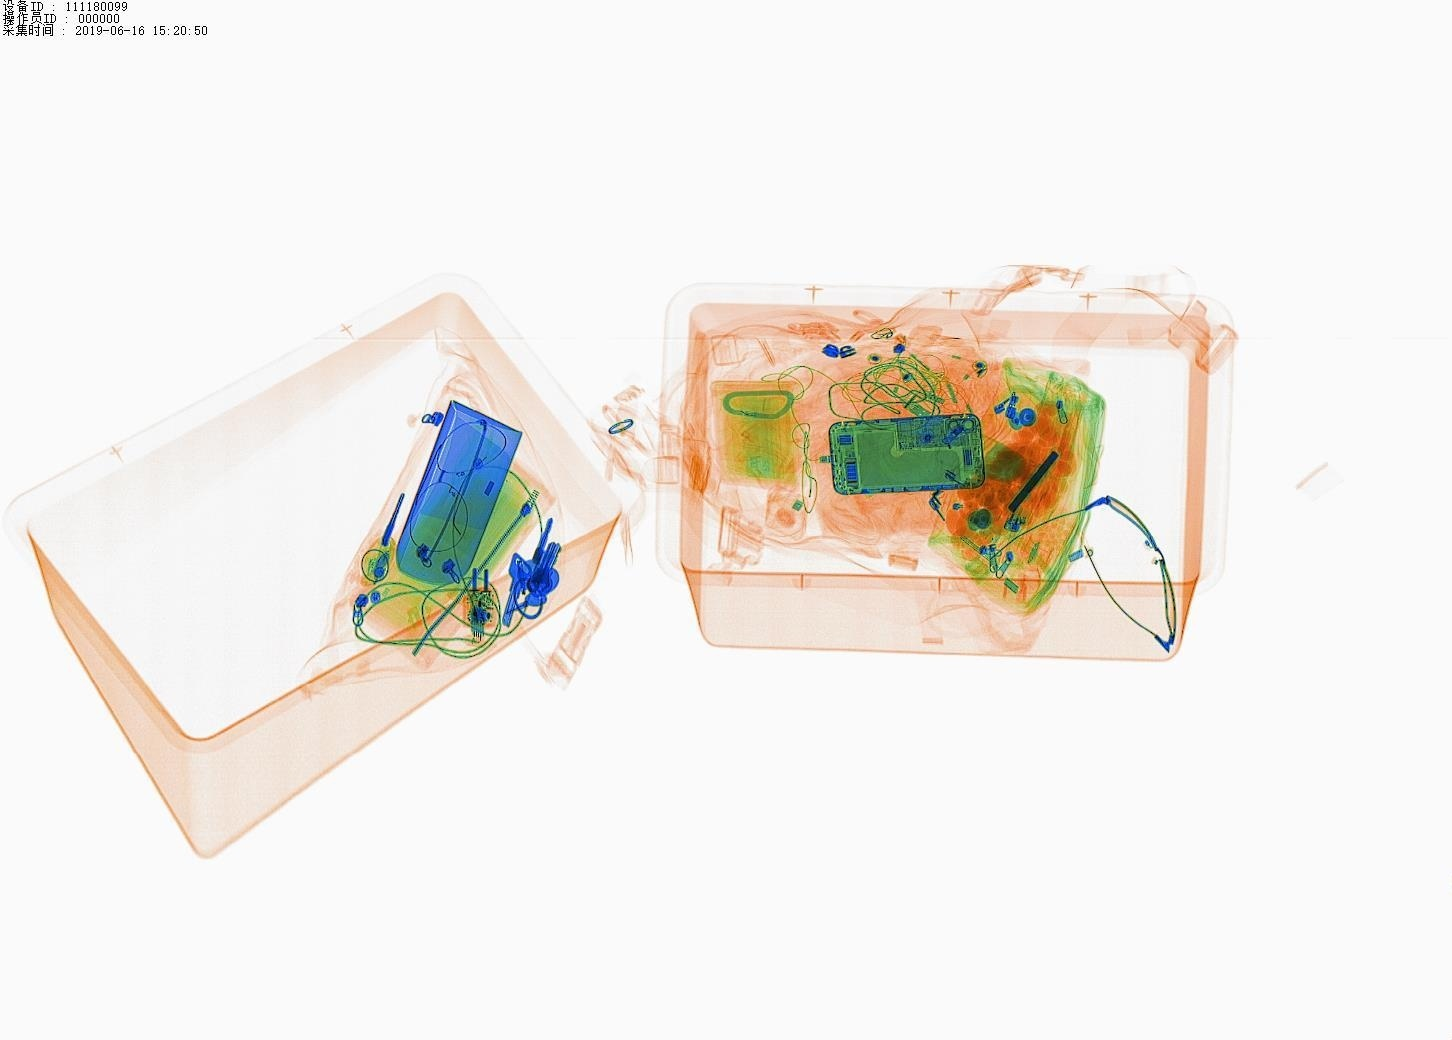NonmetallicFire: (997, 450, 1052, 562)
